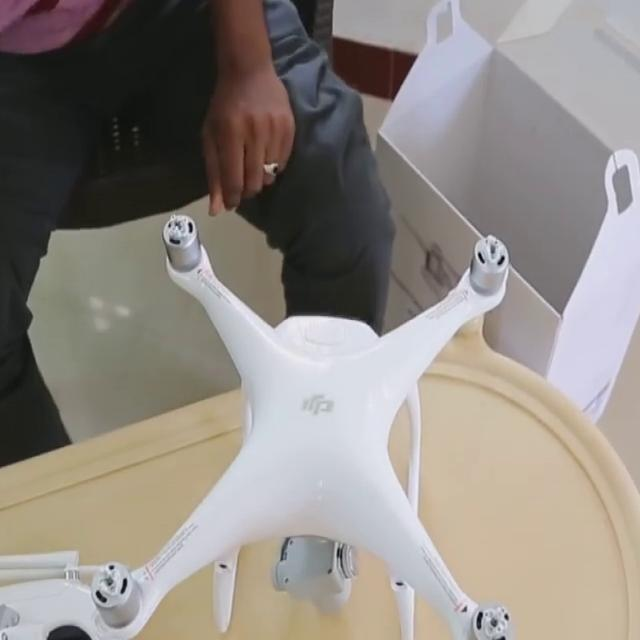drone: (64, 203, 539, 640)
